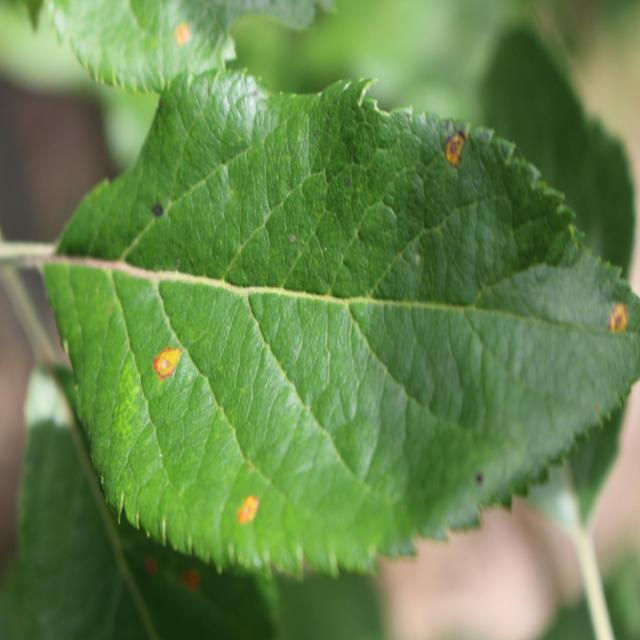Rust: (216, 478, 278, 556), (594, 271, 635, 368), (134, 328, 198, 389), (432, 113, 474, 189), (161, 2, 203, 64)
